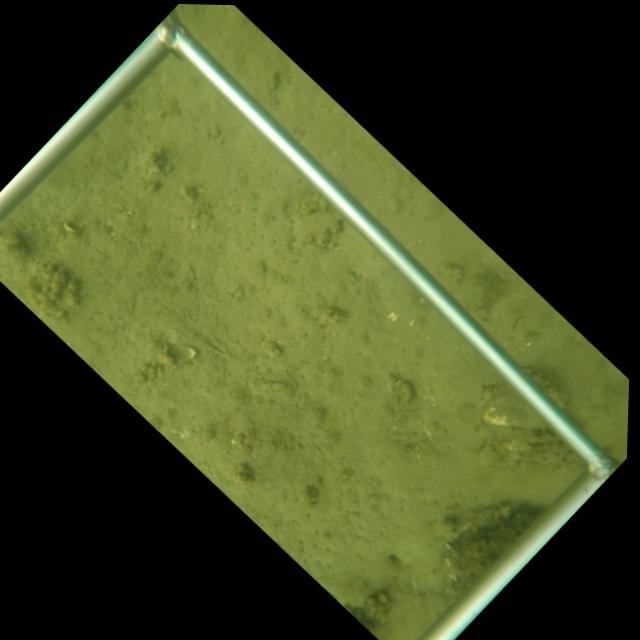Oyster-Indeterminate: (479, 388, 552, 432)
